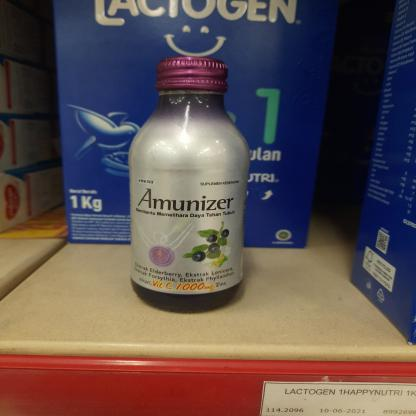keyboard: (123, 50, 251, 310)
